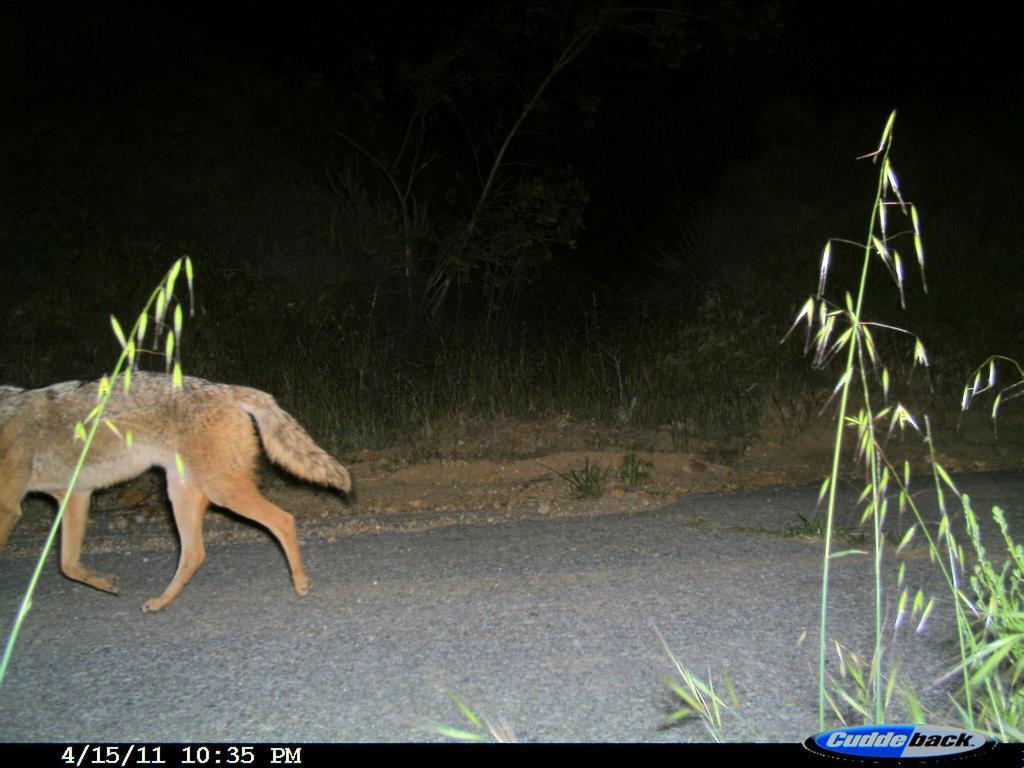coyote: (7, 345, 364, 628)
